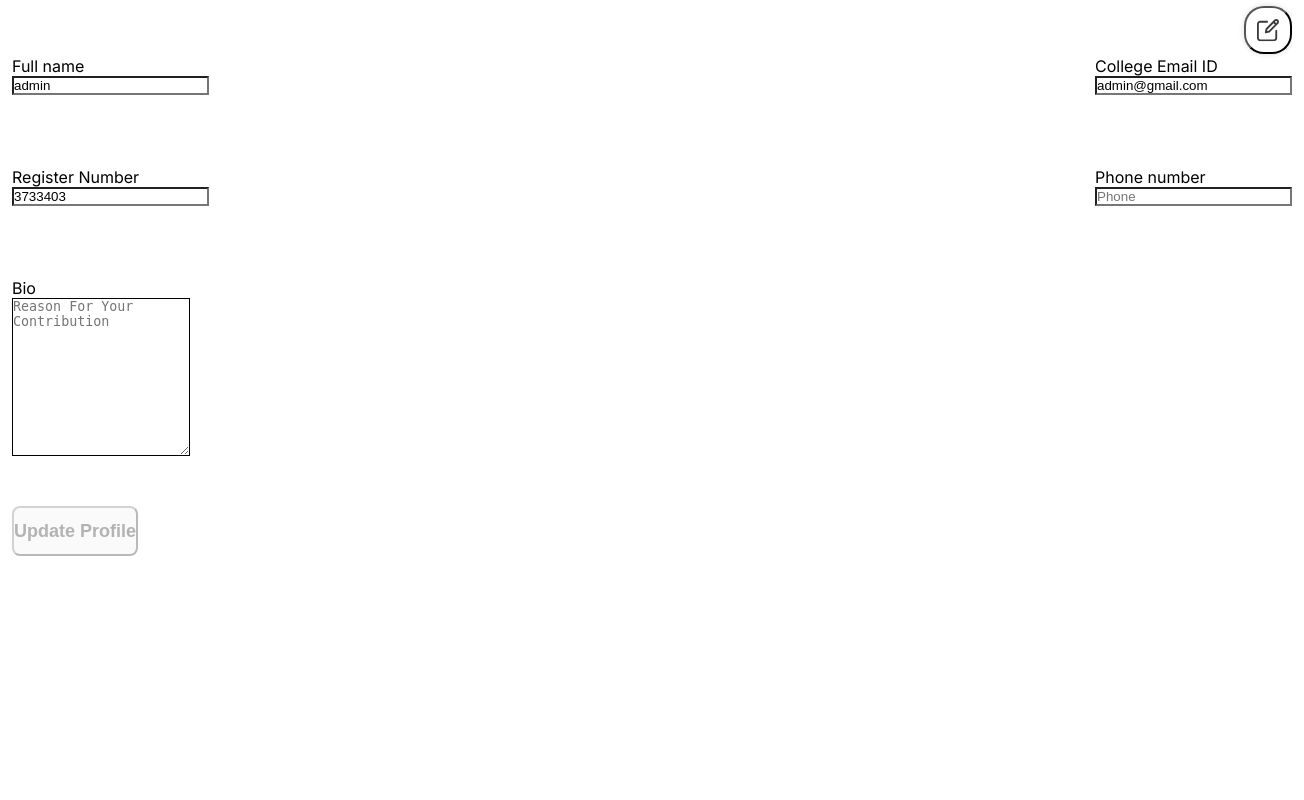
Form Profile › Should display validation error when data is empty
Click the button with test id "click-un-read-only". click: (1268,30)
box: x1=1244 y1=6 x2=1292 y2=54
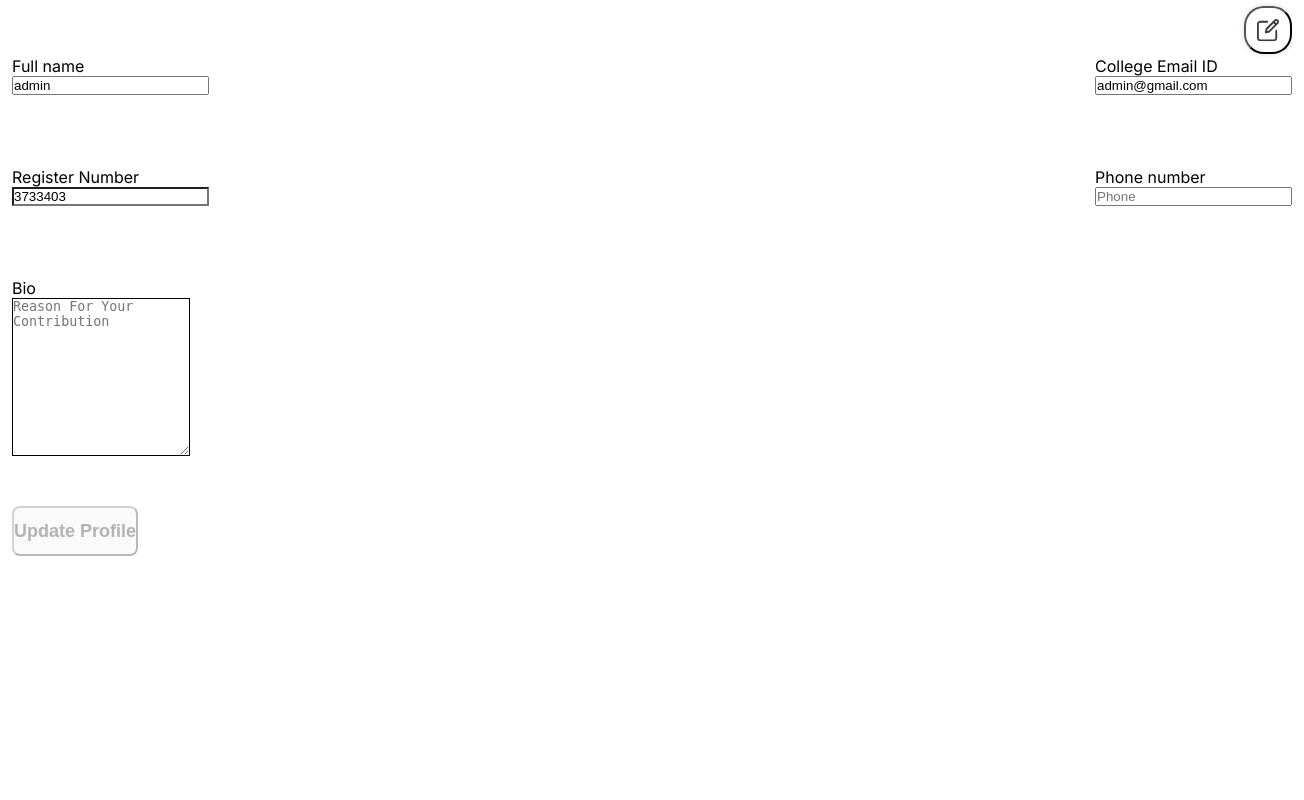
Clear the field with placeholder "Full name". click: (110,86)
box: x1=12 y1=76 x2=209 y2=95
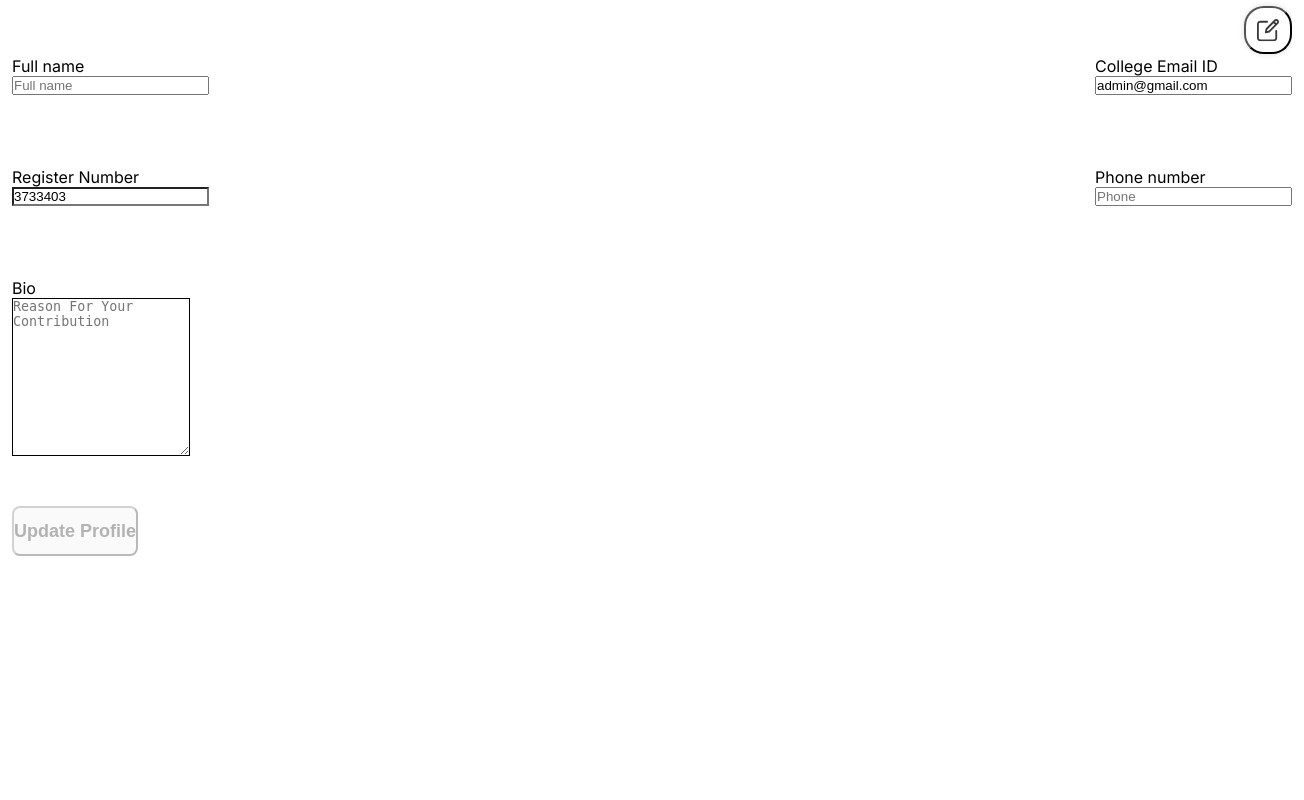
Clear the field with placeholder "Email...". click: (1194,86)
box: x1=1095 y1=76 x2=1292 y2=95
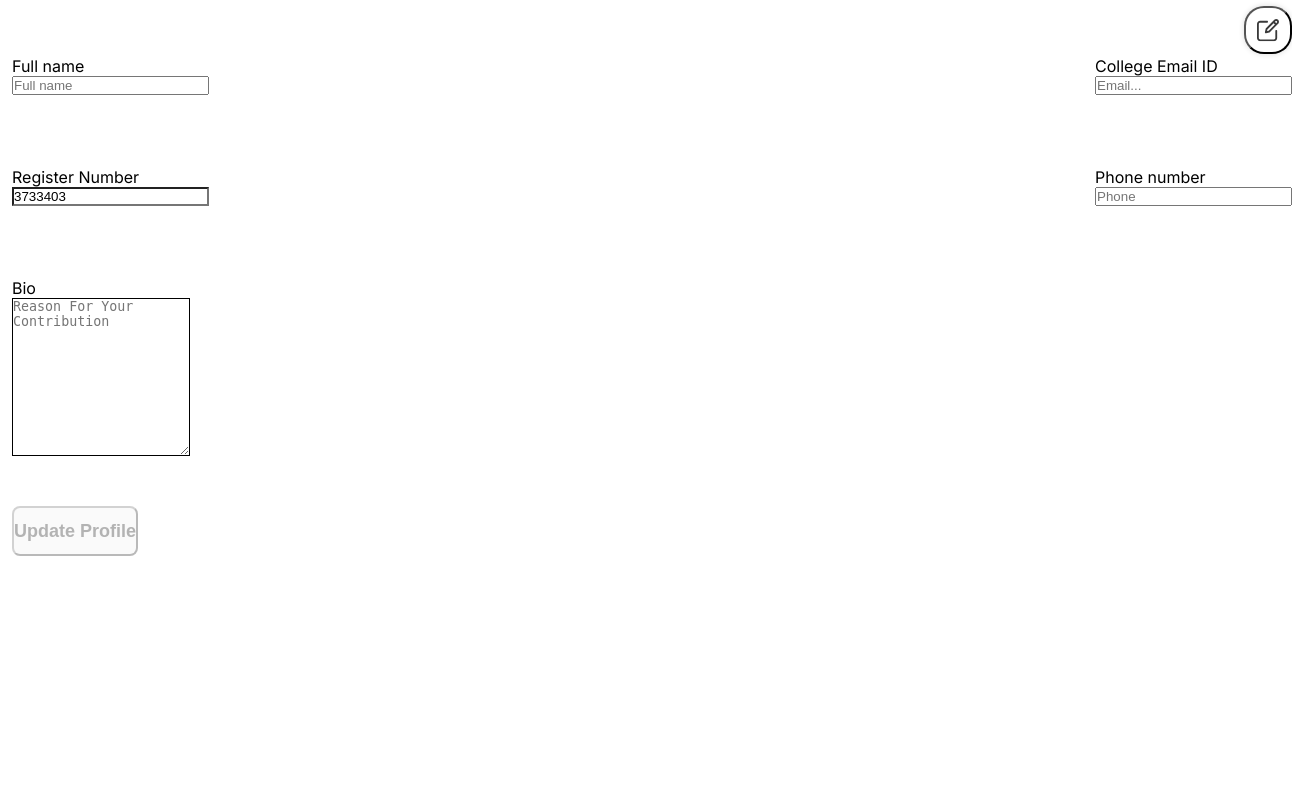
Leave the number field with placeholder "Phone", box x1=1095 y1=187 x2=1292 y2=206
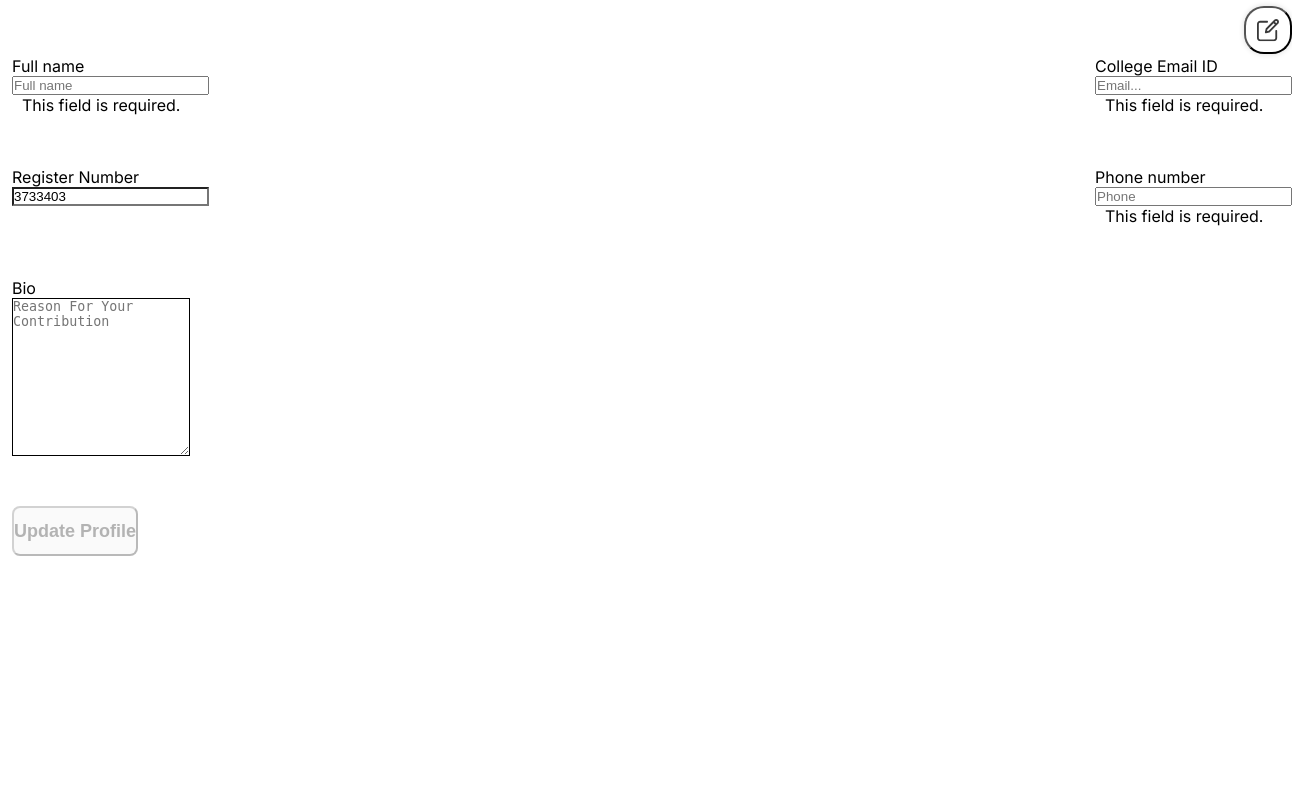
Expected: the text "This field is required." below "Full name" is shown, x1=22 y1=95 x2=180 y2=115
